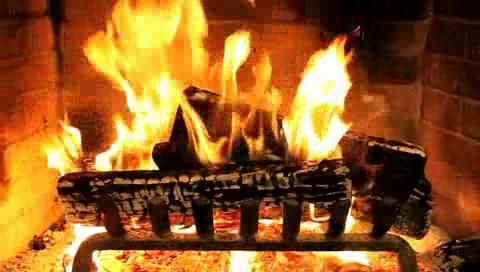fire: (78, 4, 369, 172)
